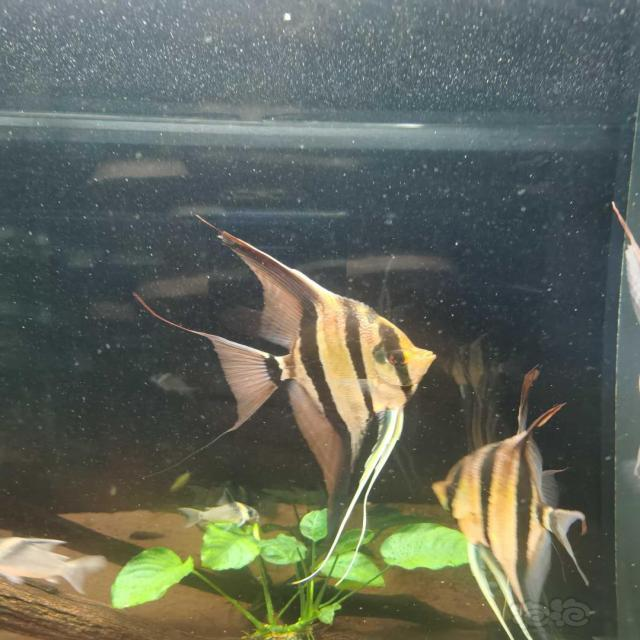AngelFish: (173, 216, 439, 589), (430, 396, 596, 640)
